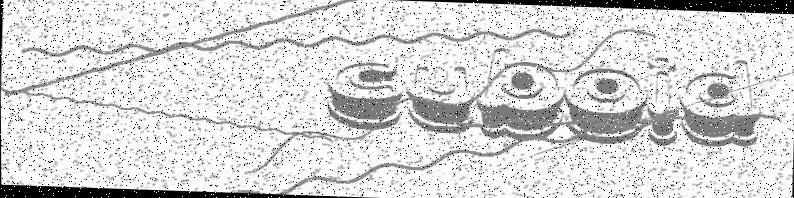b: (475, 47, 567, 142)
c: (324, 59, 404, 132)
d: (677, 56, 761, 149)
i: (644, 55, 680, 147)
o: (563, 66, 649, 146)
u: (403, 63, 476, 136)
